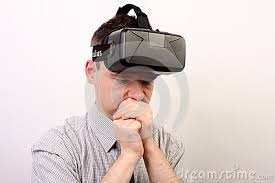oculus: (100, 31, 191, 78)
